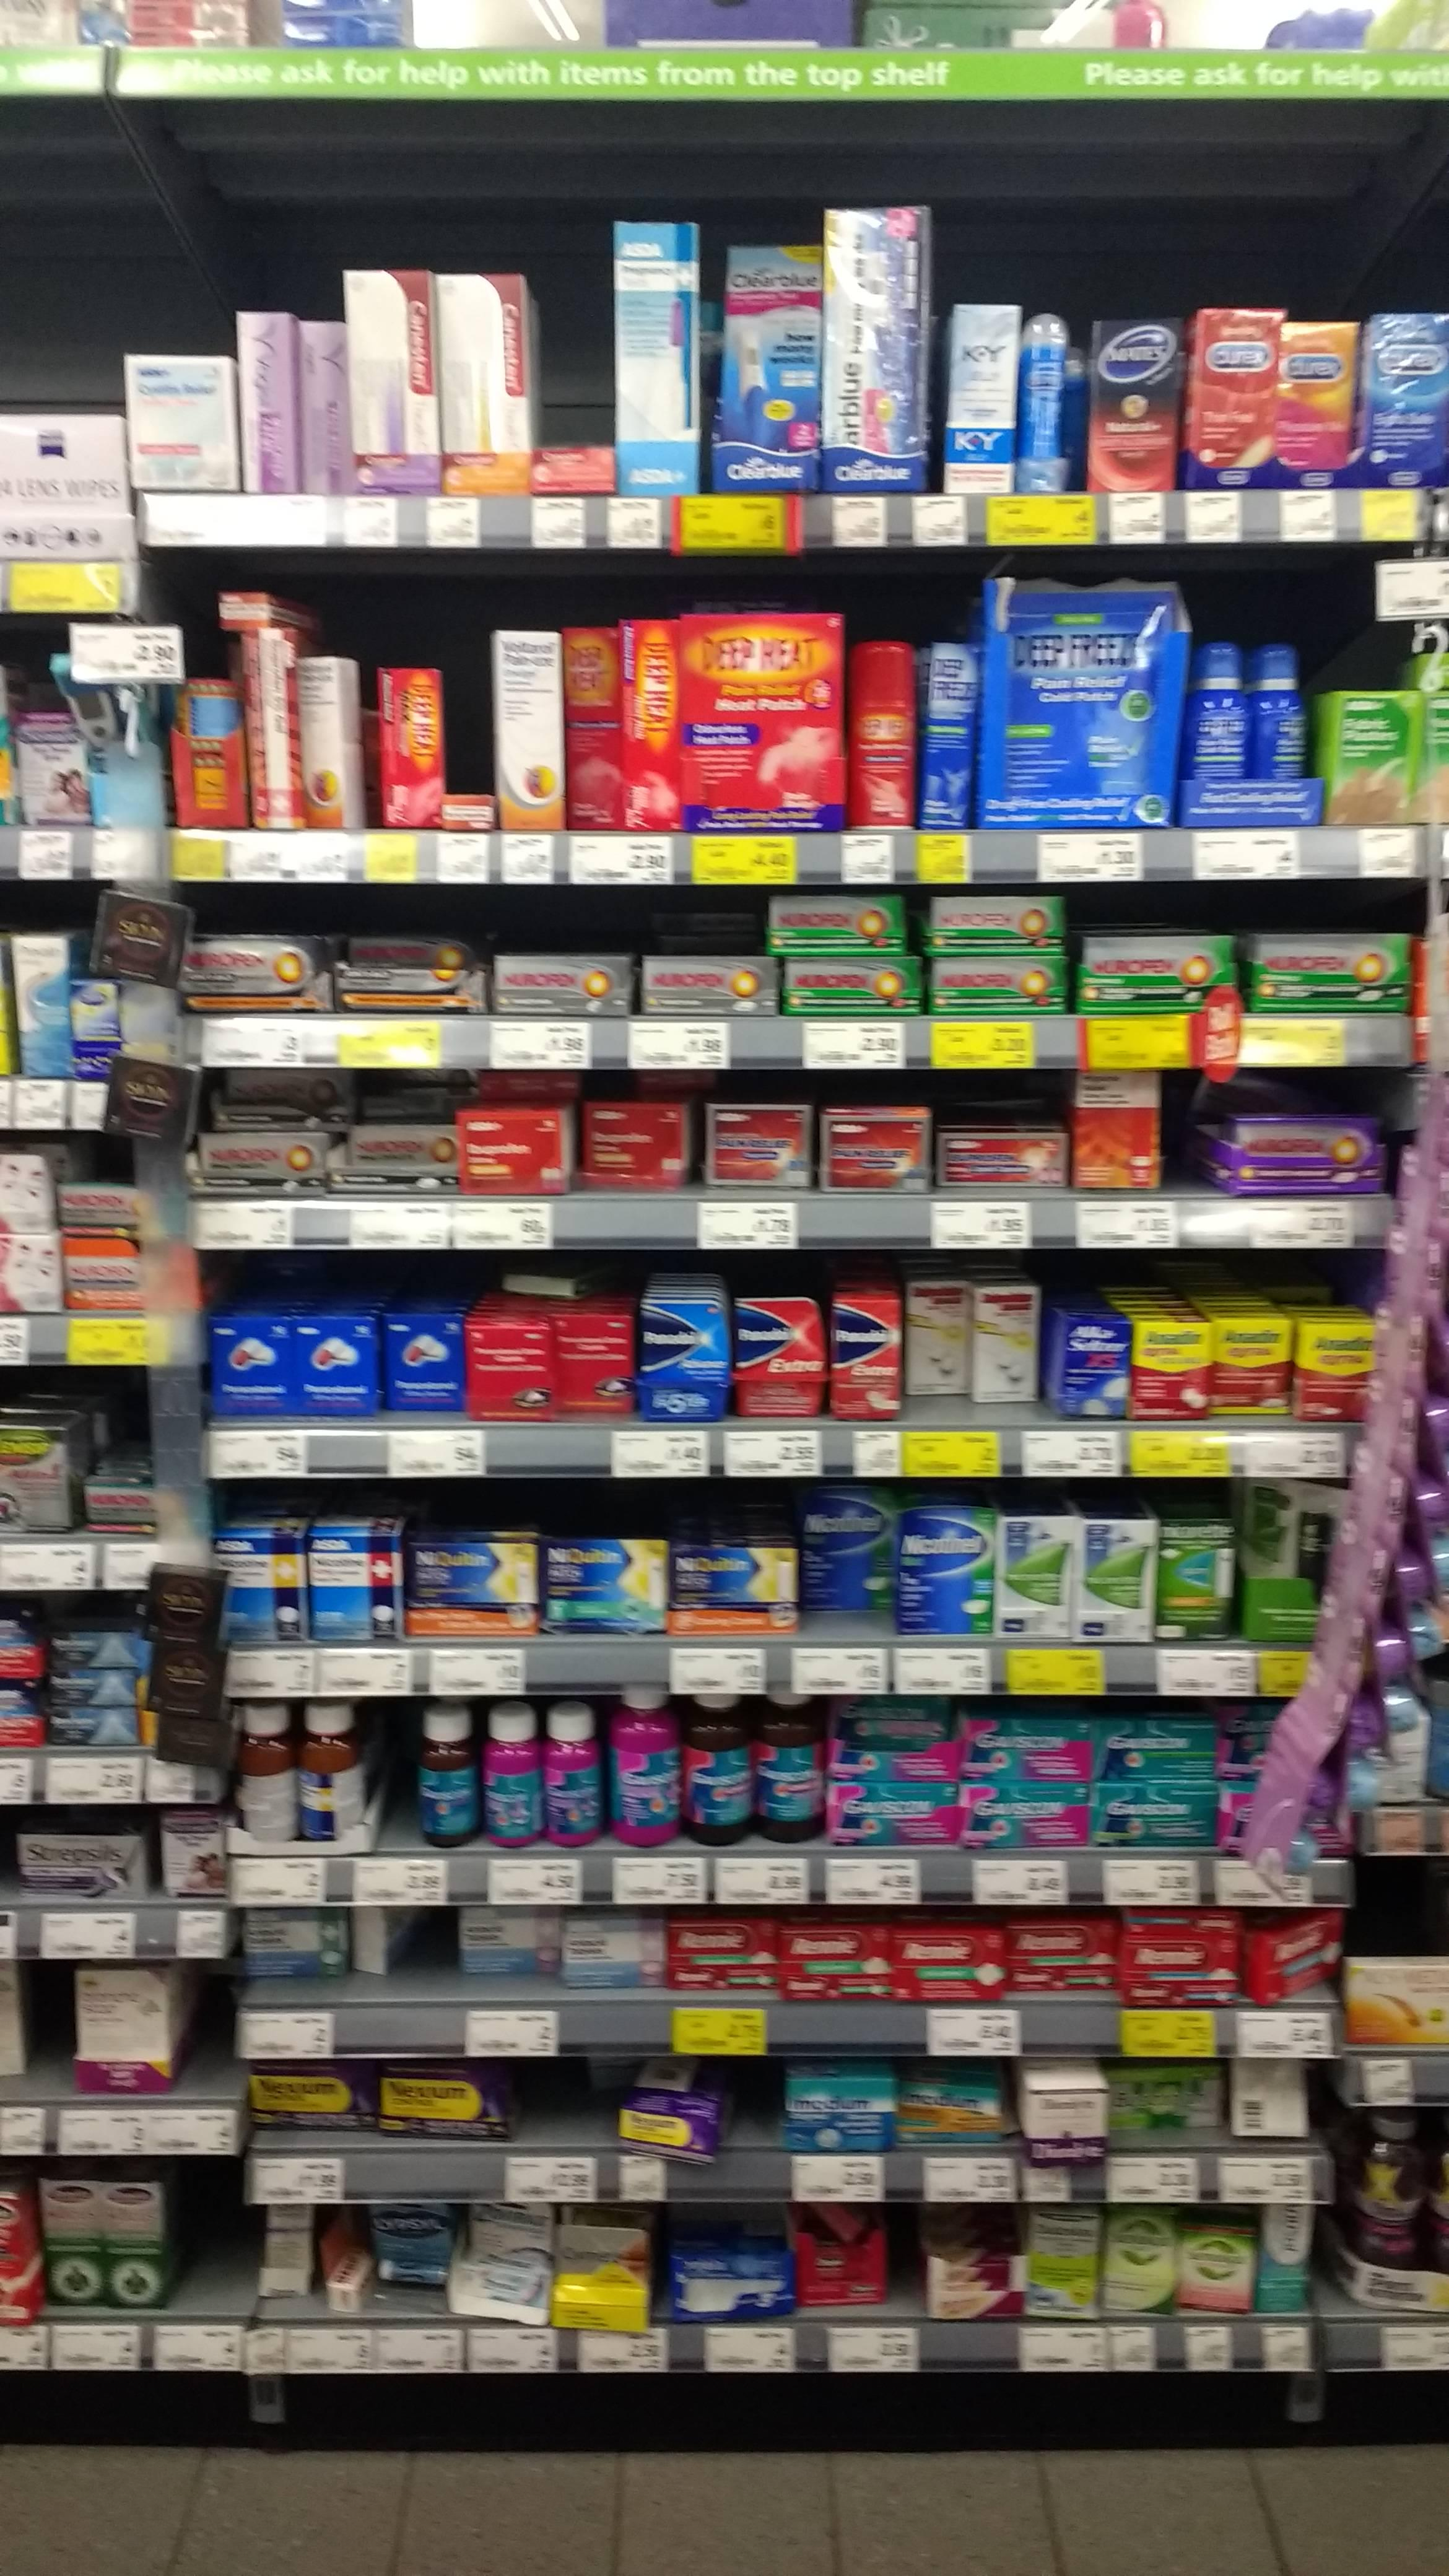empty: (517, 2065, 612, 2139), (379, 1714, 419, 1844)
misalignment: (621, 2072, 734, 2180), (310, 2220, 373, 2316)
